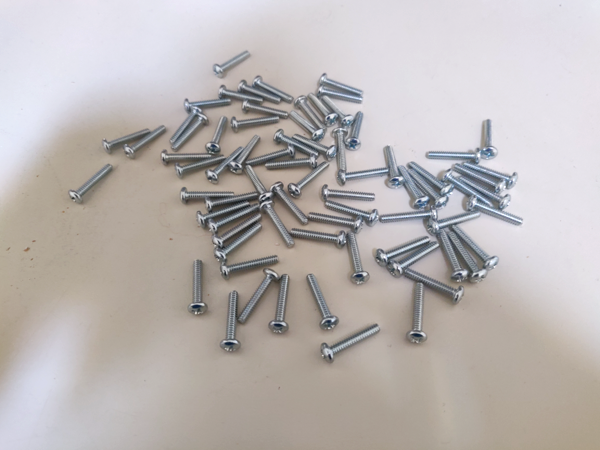longscrew: (237, 272, 281, 323), (324, 324, 382, 361), (458, 174, 512, 210), (404, 270, 468, 300), (440, 168, 493, 204), (449, 232, 487, 281), (464, 195, 524, 226), (456, 223, 497, 268), (390, 241, 440, 277), (68, 162, 111, 203), (404, 166, 447, 206), (218, 290, 243, 358), (187, 256, 212, 324), (377, 233, 431, 264), (212, 215, 262, 248), (211, 227, 260, 260), (310, 271, 336, 332), (123, 124, 169, 158), (268, 275, 292, 339), (220, 253, 281, 278), (395, 165, 428, 211), (290, 160, 329, 198), (262, 203, 294, 249), (454, 163, 506, 191), (407, 161, 452, 193), (206, 146, 243, 183), (274, 179, 304, 224), (175, 151, 225, 178), (287, 228, 345, 251), (436, 232, 462, 283), (168, 105, 201, 145), (305, 209, 362, 232), (197, 202, 249, 227), (208, 211, 261, 235), (173, 114, 209, 149), (321, 202, 378, 224), (231, 134, 262, 174), (467, 163, 518, 187), (427, 213, 482, 234), (275, 133, 321, 158), (347, 232, 368, 286), (381, 144, 406, 189), (312, 88, 366, 108), (317, 74, 366, 96), (204, 190, 257, 210), (181, 187, 234, 207), (334, 165, 389, 184), (103, 127, 148, 150), (410, 285, 426, 349), (203, 115, 229, 154), (380, 208, 439, 225), (244, 165, 271, 202), (295, 95, 326, 127), (214, 49, 250, 76), (321, 96, 353, 126), (255, 77, 295, 101), (247, 147, 293, 167), (292, 111, 326, 138), (239, 102, 292, 119), (265, 155, 315, 173), (184, 94, 229, 113), (293, 133, 334, 153), (241, 82, 281, 102), (317, 186, 378, 199), (219, 86, 263, 104), (231, 117, 279, 133), (332, 130, 350, 171), (310, 93, 336, 121), (479, 120, 495, 163), (425, 150, 481, 162), (347, 111, 362, 153), (160, 150, 210, 162)
